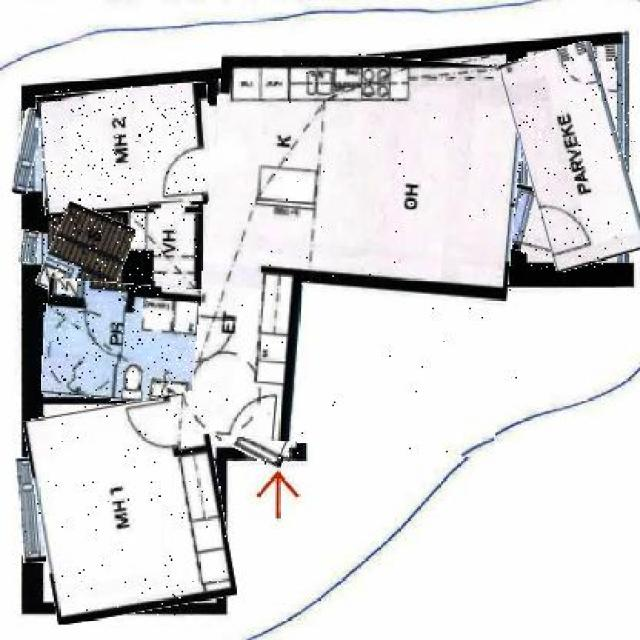door: (498, 186, 574, 257), (238, 390, 302, 464), (140, 403, 206, 465), (194, 326, 246, 377), (157, 149, 203, 205)
window: (496, 89, 538, 197), (19, 459, 46, 563), (15, 110, 43, 196), (18, 231, 38, 263)
zone: (197, 50, 520, 452), (32, 397, 230, 617), (512, 45, 636, 269), (37, 86, 214, 214), (43, 280, 200, 402), (43, 206, 131, 308), (129, 212, 203, 296)
